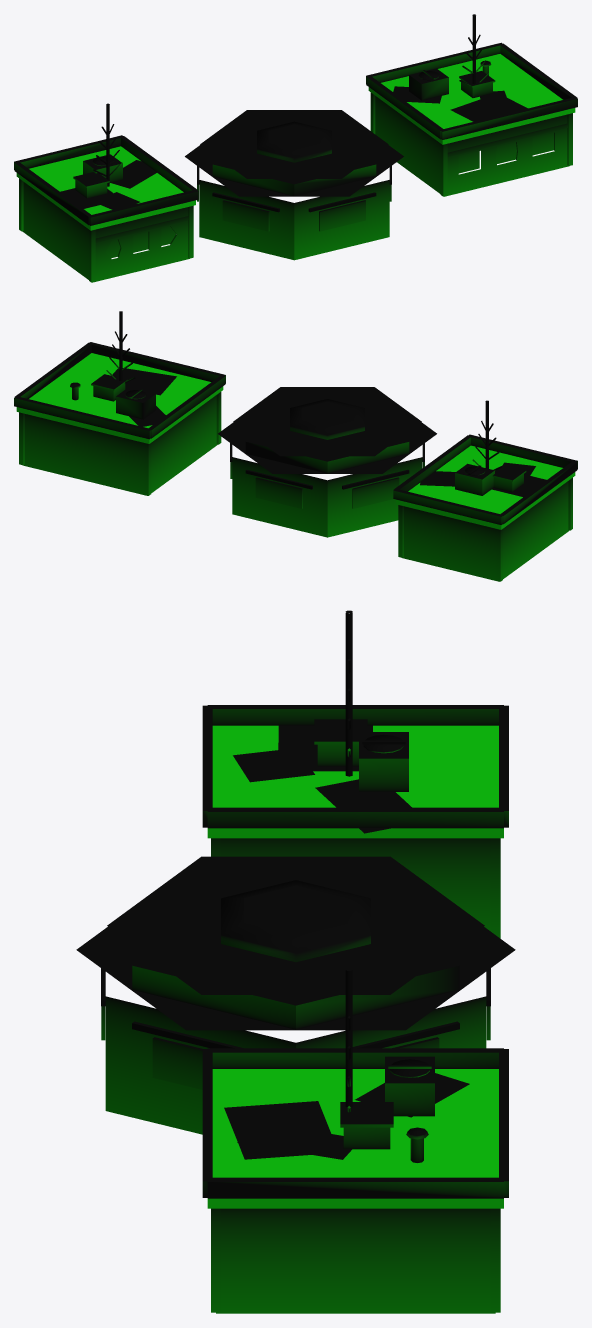
File: powergenerator.glb
3 views of the same model, one above another, from view 1: azimuth 30°, elevation 25°; view 2: azimuth 150°, elevation 25°; view 3: azimuth 270°, elevation 25° (orthographic). The views are drawn at different scales.
Visible parts, largest first — view 1: lod0; view 2: lod0; view 3: lod0.
Boxes of the visible parts, x1,y1,x2,y2 form: lod0: (14, 14, 577, 282); lod0: (14, 311, 577, 581); lod0: (76, 610, 515, 1313).
Size of what is drawn, in the model's own units: 33.9 by 9.4 by 13.2.
